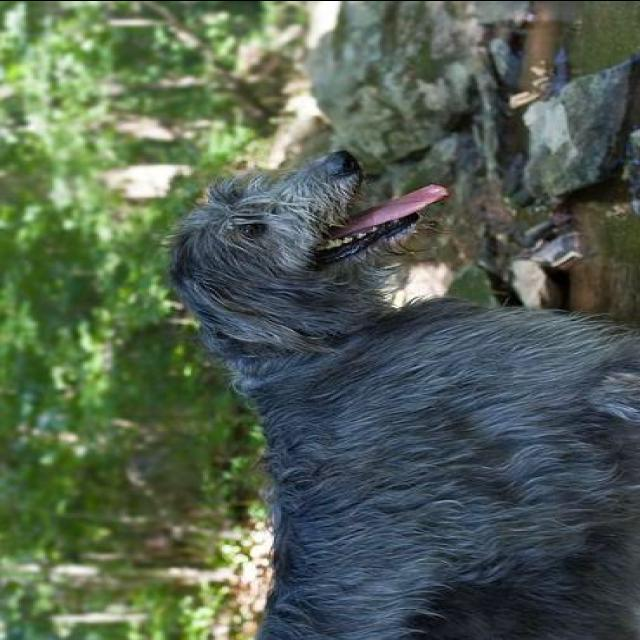irish_wolfhound: (163, 148, 638, 638)
